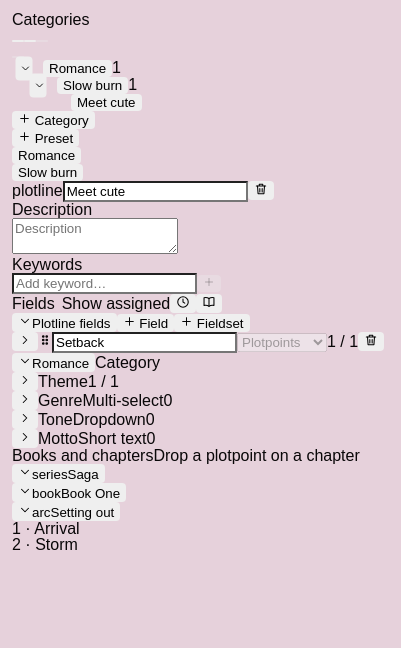
Test case: answering on a plotline › shows the field's kind but no way to change it, and the category's answer read-only above its own
Step 1. Click the button named "Expand Genre" → (25, 400), box left=12, top=391, right=38, bottom=410
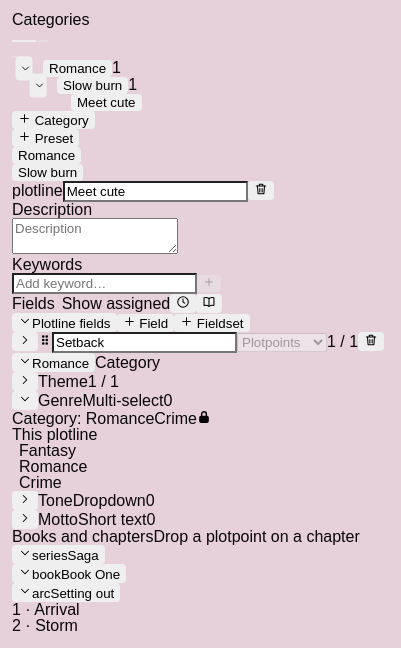
Check: the text "Category: Romance" is shown, box left=12, top=410, right=154, bottom=427
Check: the 1st text "Crime" is shown, box left=154, top=410, right=197, bottom=427
Check: the element titled "Answered on Romance. Change it there." is shown, box left=197, top=410, right=211, bottom=427
